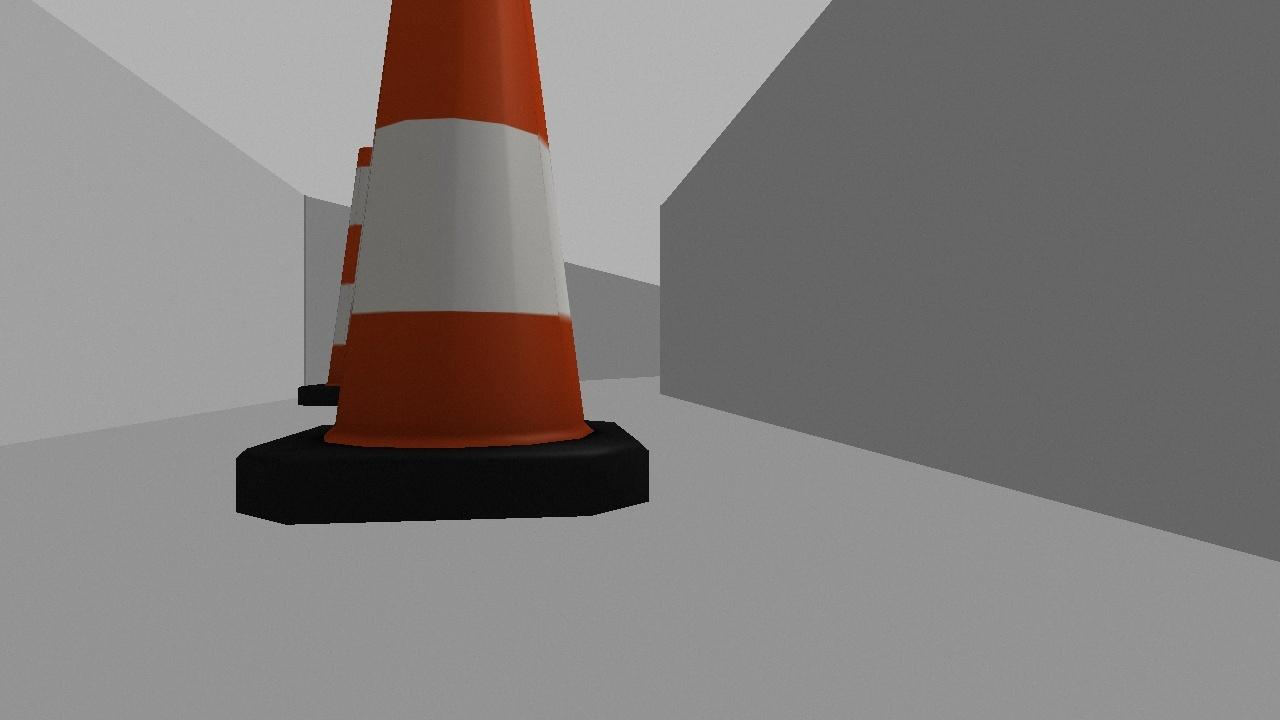cone_barrel: (211, 0, 665, 535), (286, 138, 426, 411)
